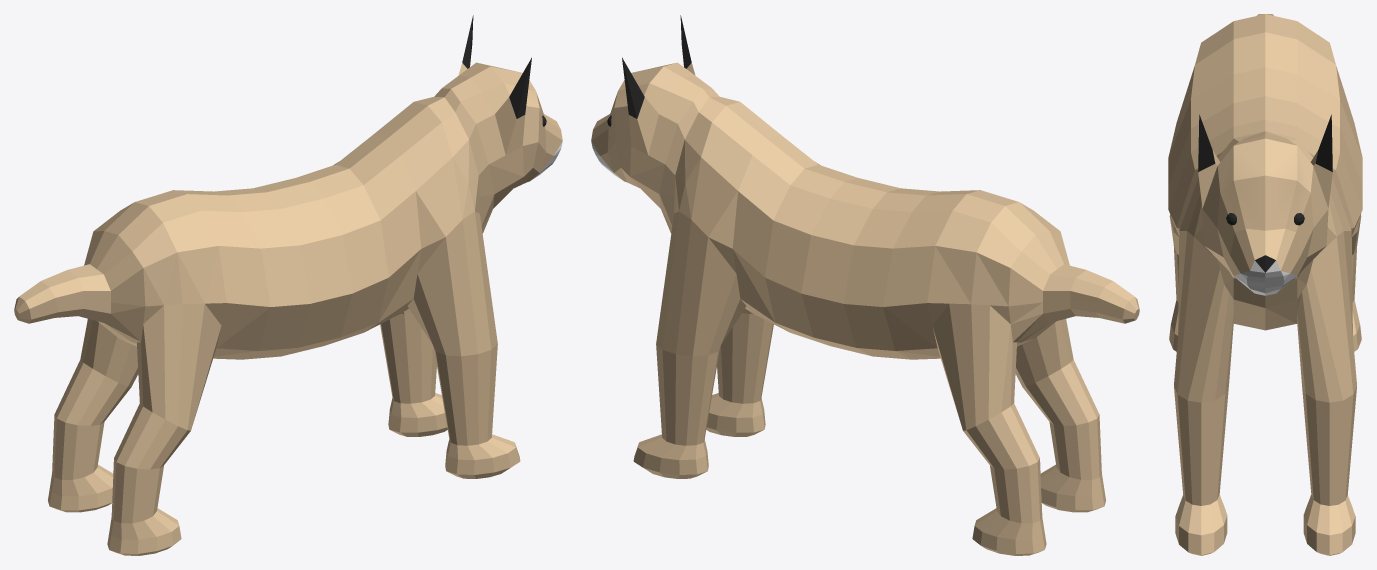
File: 07_lynx.glb
3 renders of one model, left to right at view 1: azimuth 30°, elevation 25°; view 2: azimuth 150°, elevation 25°; view 3: azimuth 270°, elevation 25°, orthographic. The views are drawn at different scales.
Parts seen in each view (by area): view 1: Plane; view 2: Plane; view 3: Plane.
Boxes of the visible parts, x1,y1,x2,y2 form: Plane: [14, 15, 562, 555]; Plane: [591, 15, 1139, 555]; Plane: [1168, 14, 1362, 555].
Size of the model in its own units: 6.68 by 4.75 by 1.83.
